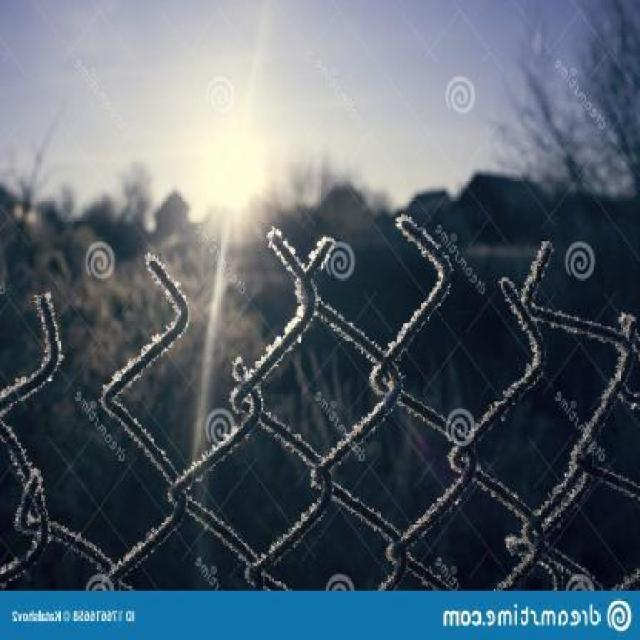fence line: (9, 4, 631, 333)
